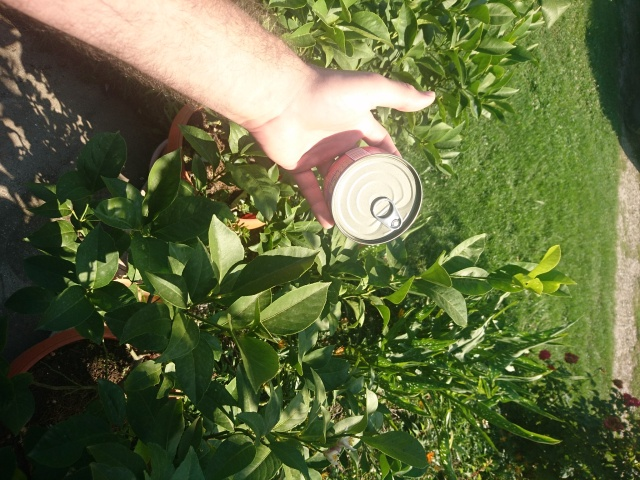Giana Tuna Salad Mexico 185g: (319, 143, 424, 247)
